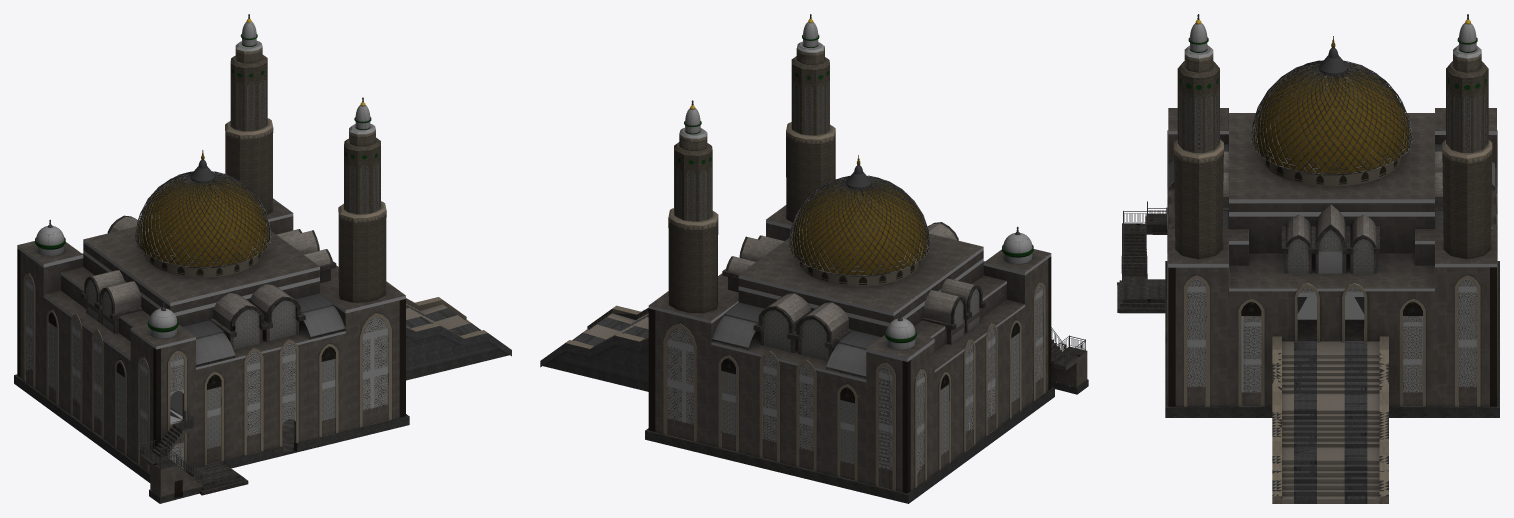
The model's file is masjidmoeldoko.glb.
3 renders of one model, left to right at view 1: azimuth 30°, elevation 25°; view 2: azimuth 150°, elevation 25°; view 3: azimuth 270°, elevation 25°, orthographic. The views are drawn at different scales.
Visible parts, largest first — view 1: piece_1, piece_2, piece_9, piece_0, piece_43, piece_3, piece_15, piece_28, piece_25, piece_8, piece_18, piece_16 (+16 smaller); view 2: piece_1, piece_2, piece_9, piece_0, piece_43, piece_3, piece_28, piece_18, piece_15, piece_8, piece_21, piece_22 (+15 smaller); view 3: piece_1, piece_2, piece_0, piece_38, piece_15, piece_43, piece_3, piece_9, piece_22, piece_25, piece_16, piece_48 (+14 smaller).
Boxes of the visible parts, <box> form: piece_1: <box>18,198,405,498</box>; piece_2: <box>137,174,269,266</box>; piece_9: <box>23,258,391,472</box>; piece_0: <box>225,129,386,302</box>; piece_43: <box>135,171,271,267</box>; piece_3: <box>230,55,380,214</box>; piece_15: <box>406,305,511,380</box>; piece_28: <box>72,316,295,454</box>; piece_25: <box>81,215,336,495</box>; piece_8: <box>91,217,330,330</box>; piece_18: <box>14,374,409,503</box>; piece_16: <box>17,213,405,424</box>; piece_1: <box>649,205,1087,492</box>; piece_2: <box>790,178,928,274</box>; piece_9: <box>663,264,1045,490</box>; piece_0: <box>668,134,835,313</box>; piece_43: <box>788,175,930,275</box>; piece_3: <box>674,56,829,221</box>; piece_28: <box>762,326,995,470</box>; piece_18: <box>645,379,1088,503</box>; piece_15: <box>540,314,648,391</box>; piece_8: <box>728,223,975,340</box>; piece_21: <box>721,332,1019,480</box>; piece_22: <box>878,285,1043,489</box>; piece_1: <box>1121,108,1496,406</box>; piece_2: <box>1252,64,1409,173</box>; piece_0: <box>1174,154,1492,259</box>; piece_38: <box>1282,341,1379,503</box>; piece_15: <box>1294,341,1367,503</box>; piece_43: <box>1251,60,1412,174</box>; piece_3: <box>1177,61,1488,152</box>; piece_9: <box>1167,130,1497,406</box>; piece_22: <box>1187,278,1477,406</box>; piece_25: <box>1117,207,1442,313</box>; piece_16: <box>1168,131,1496,319</box>; piece_48: <box>1251,61,1412,503</box>.
Size of the model in its own units: 74.76 by 56 by 50.35.
41 materials, 38 textured.
